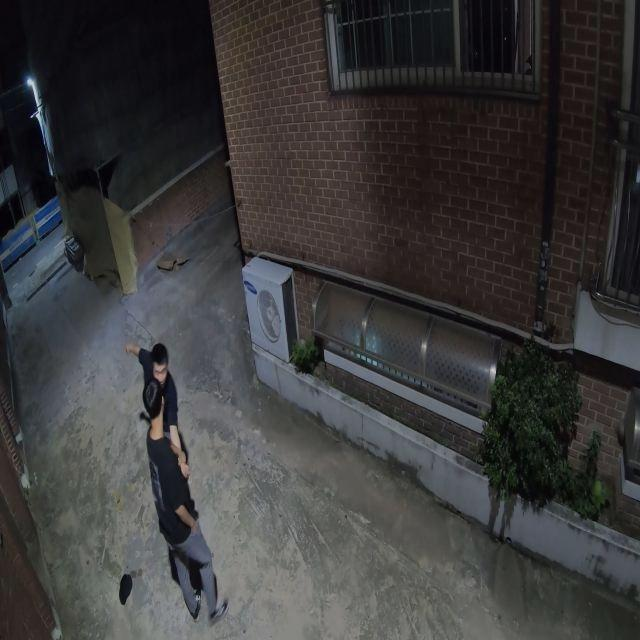fight: (141, 337, 225, 622)
